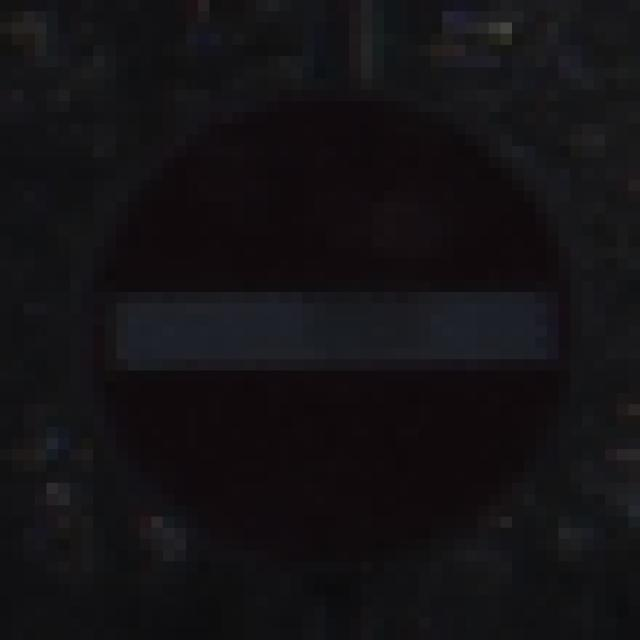No Entry: (71, 57, 583, 585)
